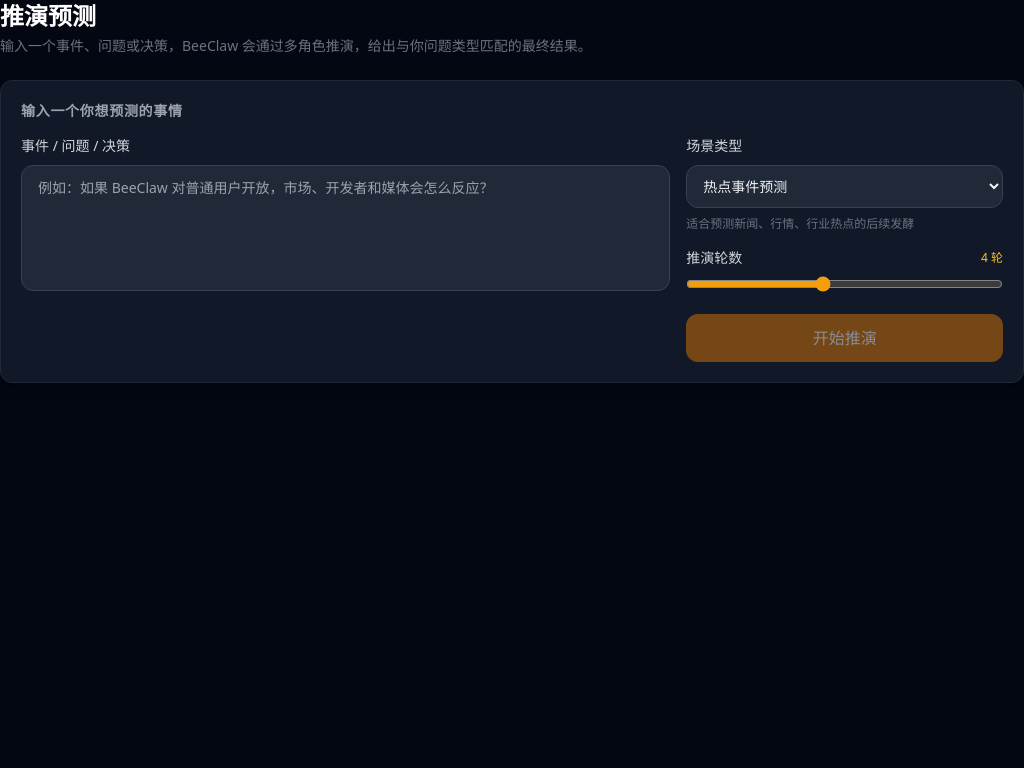
Test: ForecastPage › 没有 range 时不应显示区间标签
Type "这项政策会不会导致房价下跌？" into the text box with placeholder "例如：如果 BeeClaw 对普通用户开放，市场、开发者和媒体会怎么反应？" at [346, 228], box [21,165,670,291]
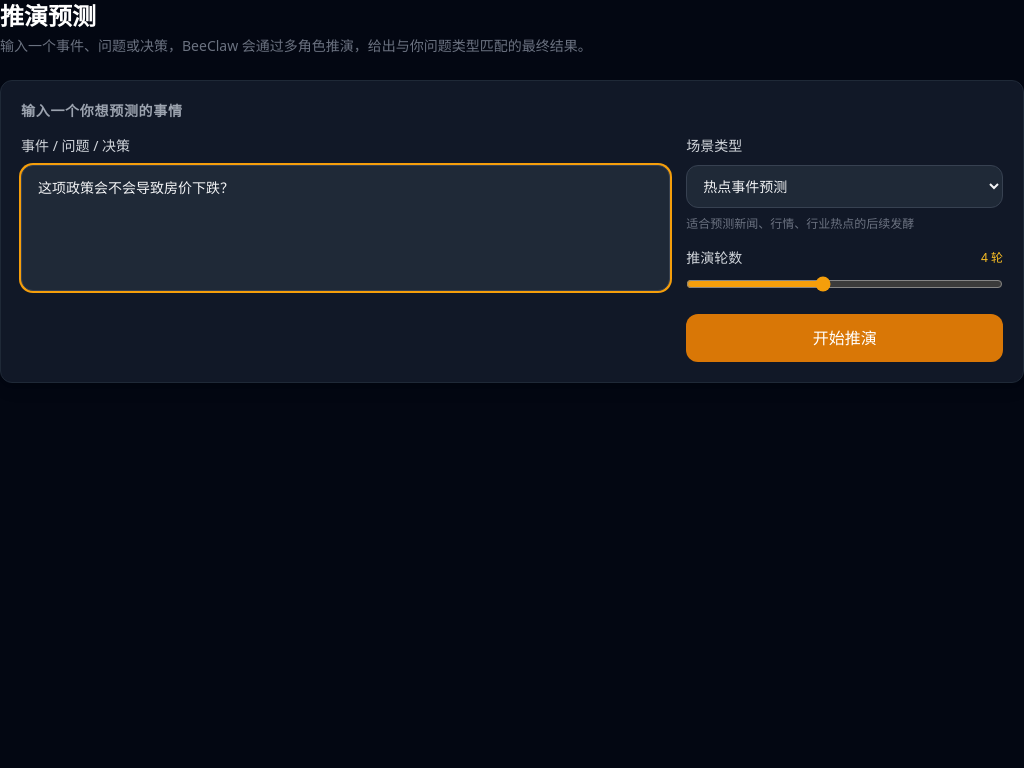
Click the button "开始推演" at [845, 338], box [686,314,1003,362]
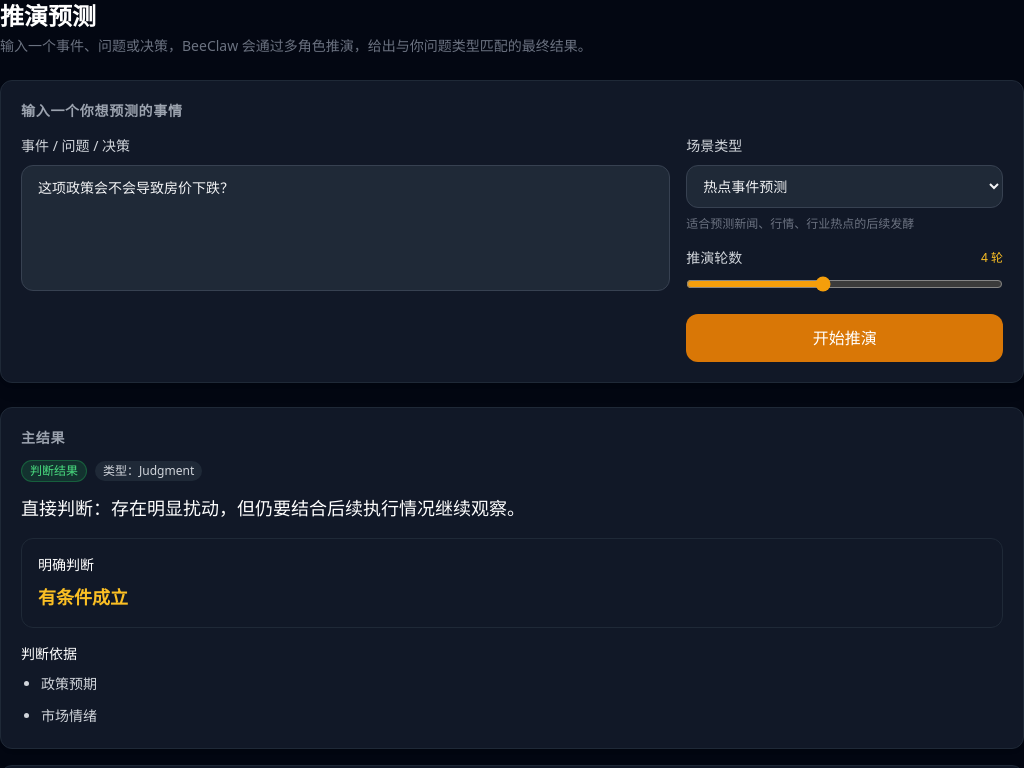
Check: the heading "主结果" is shown, box [21,428,65,447]
